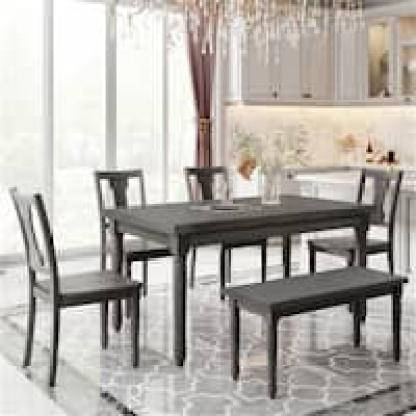chair: (7, 180, 143, 380), (214, 267, 416, 397), (92, 169, 181, 333), (187, 164, 267, 295), (310, 164, 407, 270)
light: (99, 0, 376, 67)
table: (103, 197, 380, 361)
